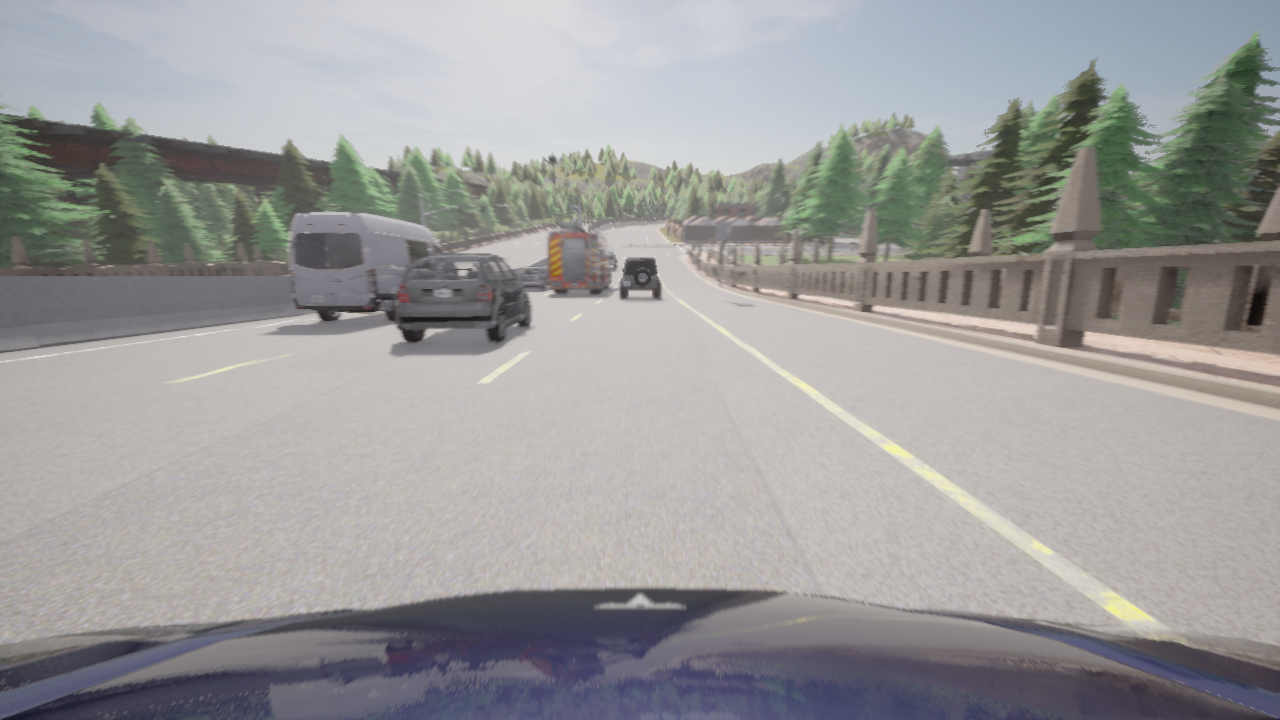cyclist: (0, 588, 1279, 719), (288, 214, 442, 321), (396, 254, 530, 342), (548, 223, 612, 293), (619, 258, 660, 298), (518, 267, 548, 290), (609, 252, 615, 269)
